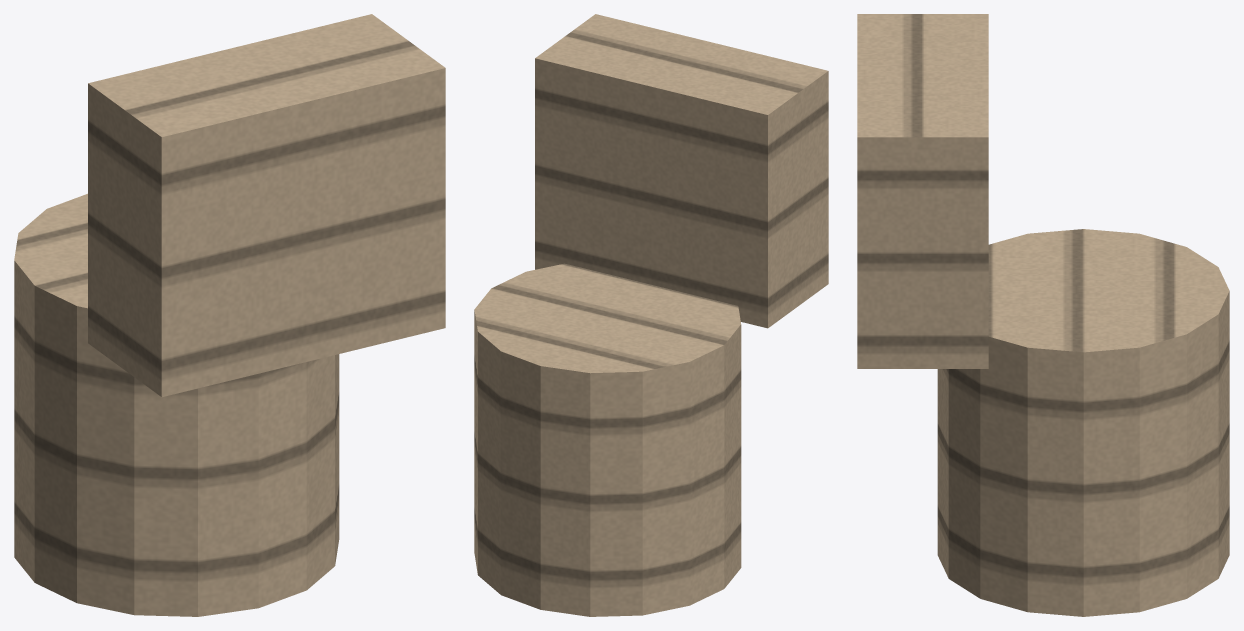
File: toilet.glb
3 views of the same model, side by side, from view 1: azimuth 30°, elevation 25°; view 2: azimuth 150°, elevation 25°; view 3: azimuth 270°, elevation 25° (orthographic). The views are drawn at different scales.
Visible parts, largest first — view 1: toilet-col; view 2: toilet-col; view 3: toilet-col.
Part boxes in pixels (x1,y1,x2,y2): toilet-col: (14,14,445,616); toilet-col: (474,14,828,616); toilet-col: (857,14,1229,616).
Bounding box in the file's own units: 0.4 × 0.725 × 0.51.
1 material, 1 textured.
